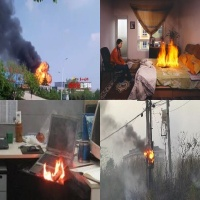fire: (40, 157, 68, 186), (156, 37, 179, 67), (35, 61, 51, 85), (143, 147, 154, 164)
